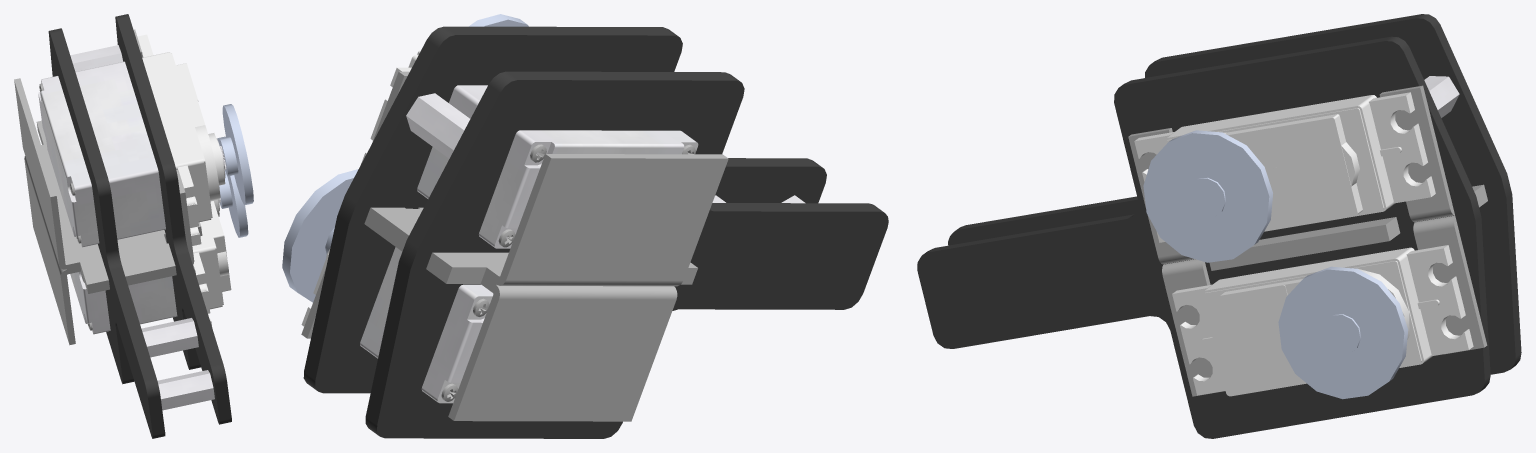
File: r_graspA_link.dae
The picture shows the model from 3 angles, left to right: view 1: azimuth 30°, elevation 25°; view 2: azimuth 150°, elevation 25°; view 3: azimuth 270°, elevation 25°; orthographic projection. The views are drawn at different scales.
Visible parts, largest first — view 1: Actor0; view 2: Actor0; view 3: Actor0.
Part boxes in pixels (x1,y1,x2,y2): Actor0: (14,14,253,438); Actor0: (282,14,888,438); Actor0: (917,14,1521,438).
Size of the model in its own units: 0.0685 by 0.0806 by 0.1075.
Materials: 8 (3 with a texture image).
